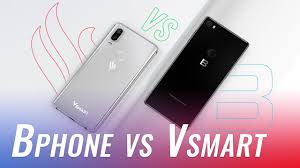vsmart: (51, 20, 159, 136)
